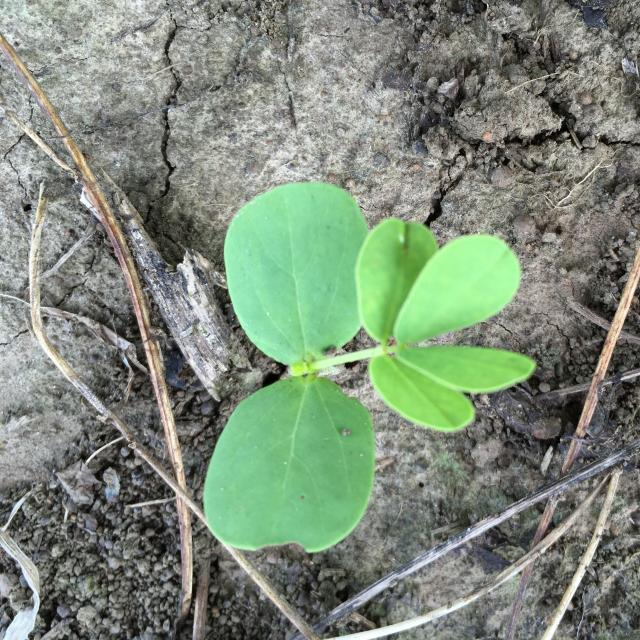Sicklepod: (204, 182, 537, 553)
